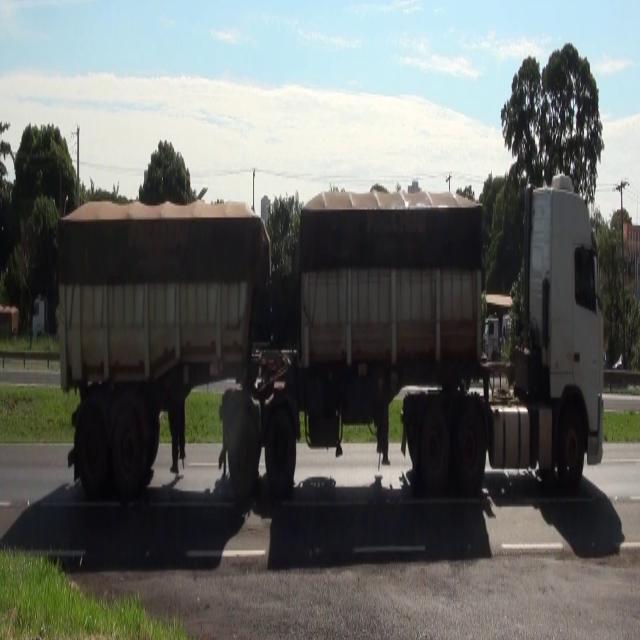-axle: (110, 408, 146, 494), (452, 405, 485, 494), (228, 406, 259, 497), (264, 409, 297, 494), (77, 410, 108, 500), (554, 404, 585, 490), (419, 409, 450, 493)
